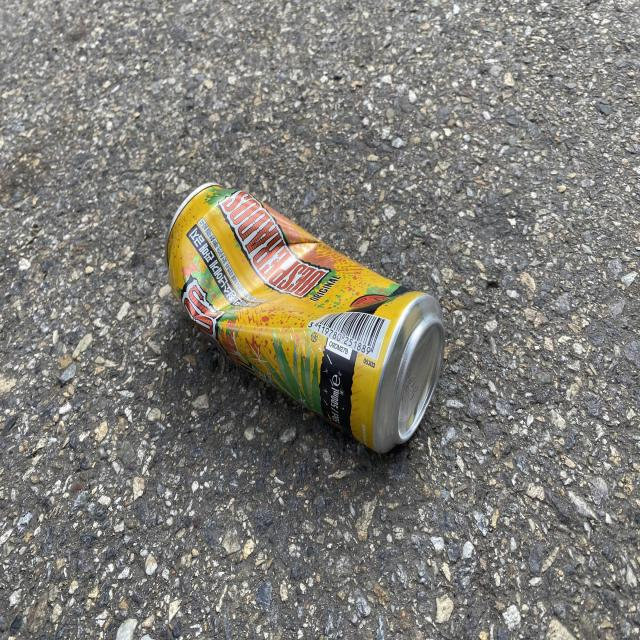can: (165, 182, 445, 453)
